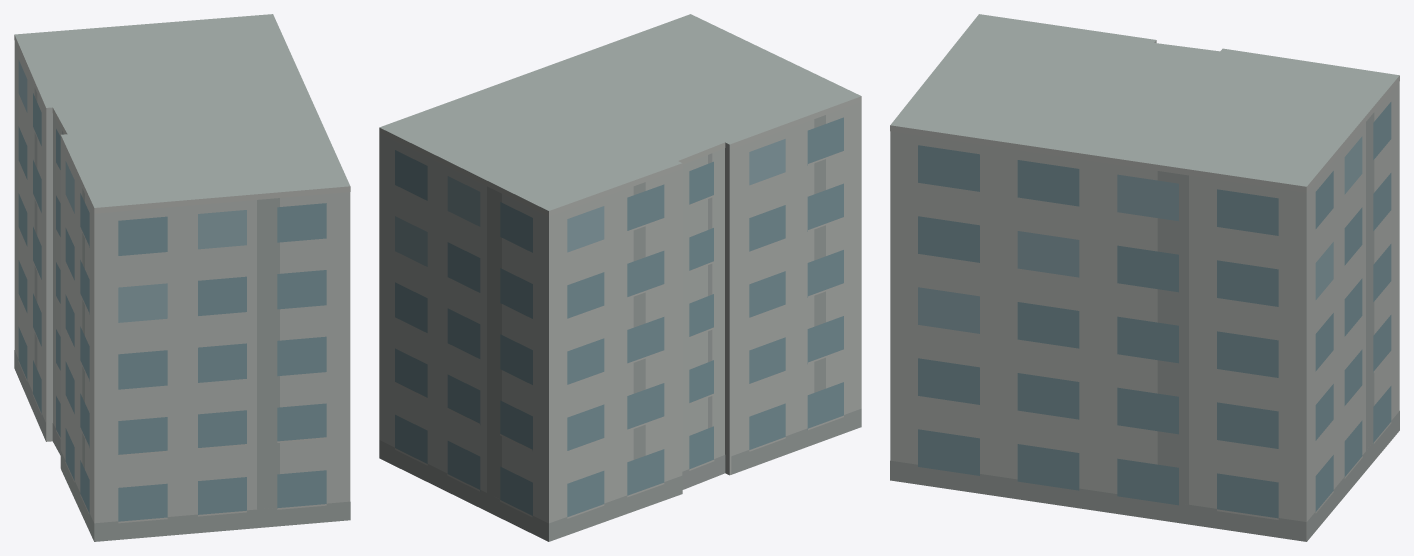
The model's file is survey-upis-32890071.glb.
3 renders of one model, left to right at view 1: azimuth 30°, elevation 25°; view 2: azimuth 150°, elevation 25°; view 3: azimuth 270°, elevation 25°, orthographic. The views are drawn at different scales.
Parts seen in each view (by area): view 1: survey-upis-32890071.tmp; view 2: survey-upis-32890071.tmp; view 3: survey-upis-32890071.tmp.
Boxes of the visible parts, x1,y1,x2,y2 form: survey-upis-32890071.tmp: (14,14,350,541); survey-upis-32890071.tmp: (379,14,861,541); survey-upis-32890071.tmp: (890,14,1399,541).
Size of the model in its own units: 14.82 by 14.2 by 18.48.
